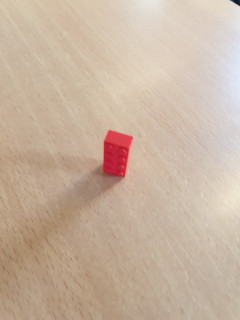2x4 red: (103, 129, 136, 180)
